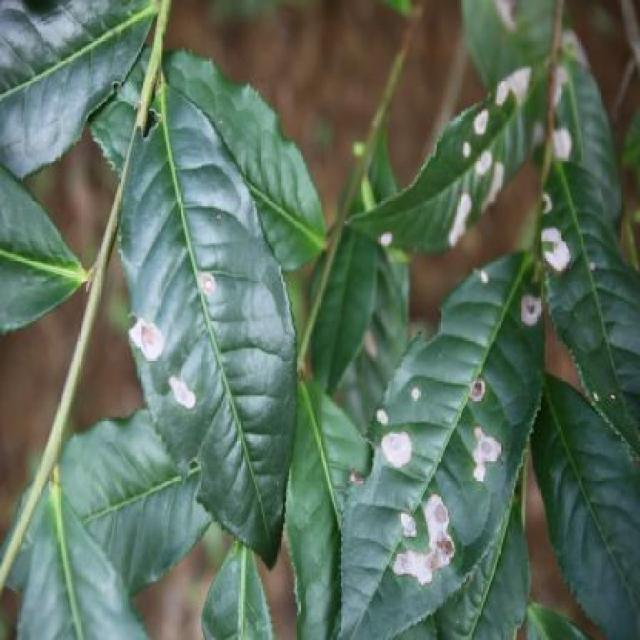Leaf rust of tea: (368, 237, 550, 640), (122, 120, 296, 518), (364, 43, 568, 248)
